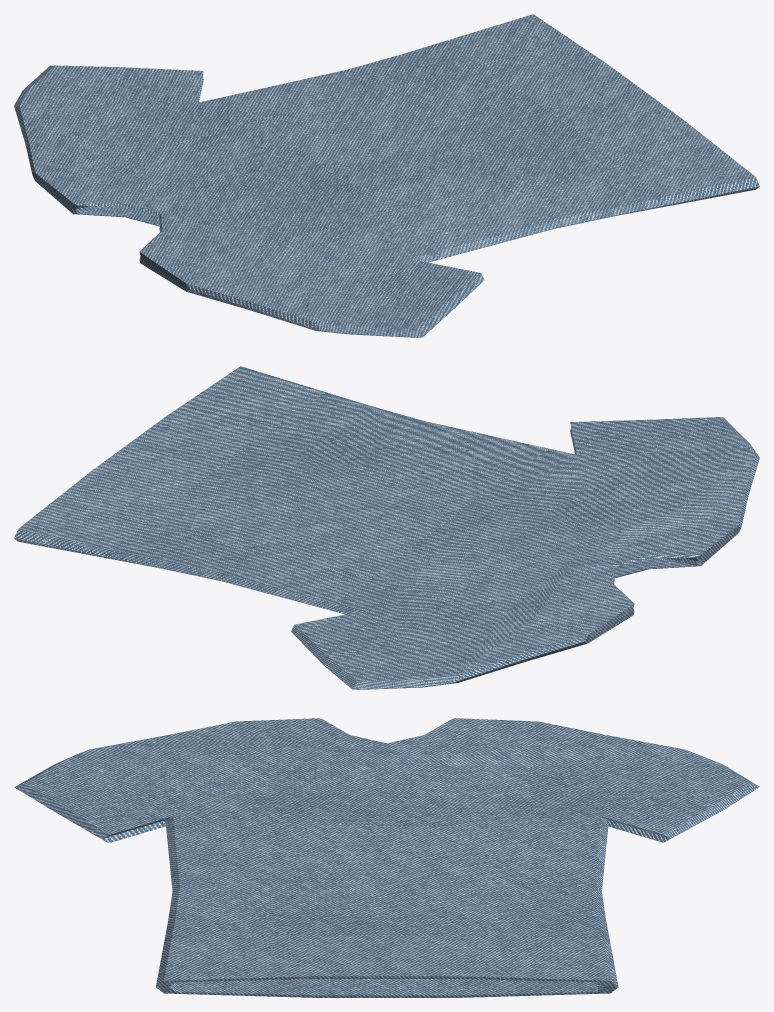
Rendered from camiseta1_1.fbx.
3 views of the same model, one above another, from view 1: azimuth 30°, elevation 25°; view 2: azimuth 150°, elevation 25°; view 3: azimuth 270°, elevation 25° (orthographic).
Visible parts, largest first — view 1: shirt1:Mesh; view 2: shirt1:Mesh; view 3: shirt1:Mesh.
Boxes of the visible parts, x1,y1,x2,y2 form: shirt1:Mesh: (14,14,759,337); shirt1:Mesh: (14,366,759,689); shirt1:Mesh: (14,718,759,997).
Bounding box in the file's own units: 2.79 × 0.1059 × 3.34.
1 material, 1 textured.
